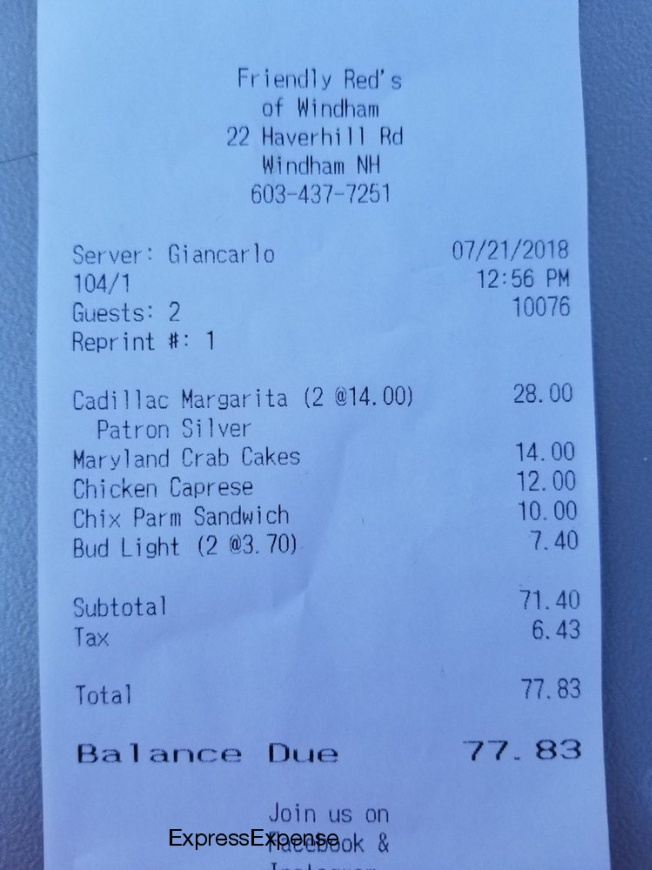Additional details: (255, 793, 400, 870)
Purchase summary: (46, 227, 599, 775)
Receipt: (34, 1, 608, 868)
Shop details: (208, 46, 421, 214)
